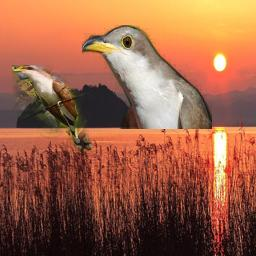Cuckoo: (82, 25, 212, 129), (12, 65, 92, 151)
